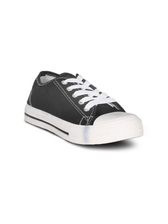shoes: (21, 68, 147, 148)
